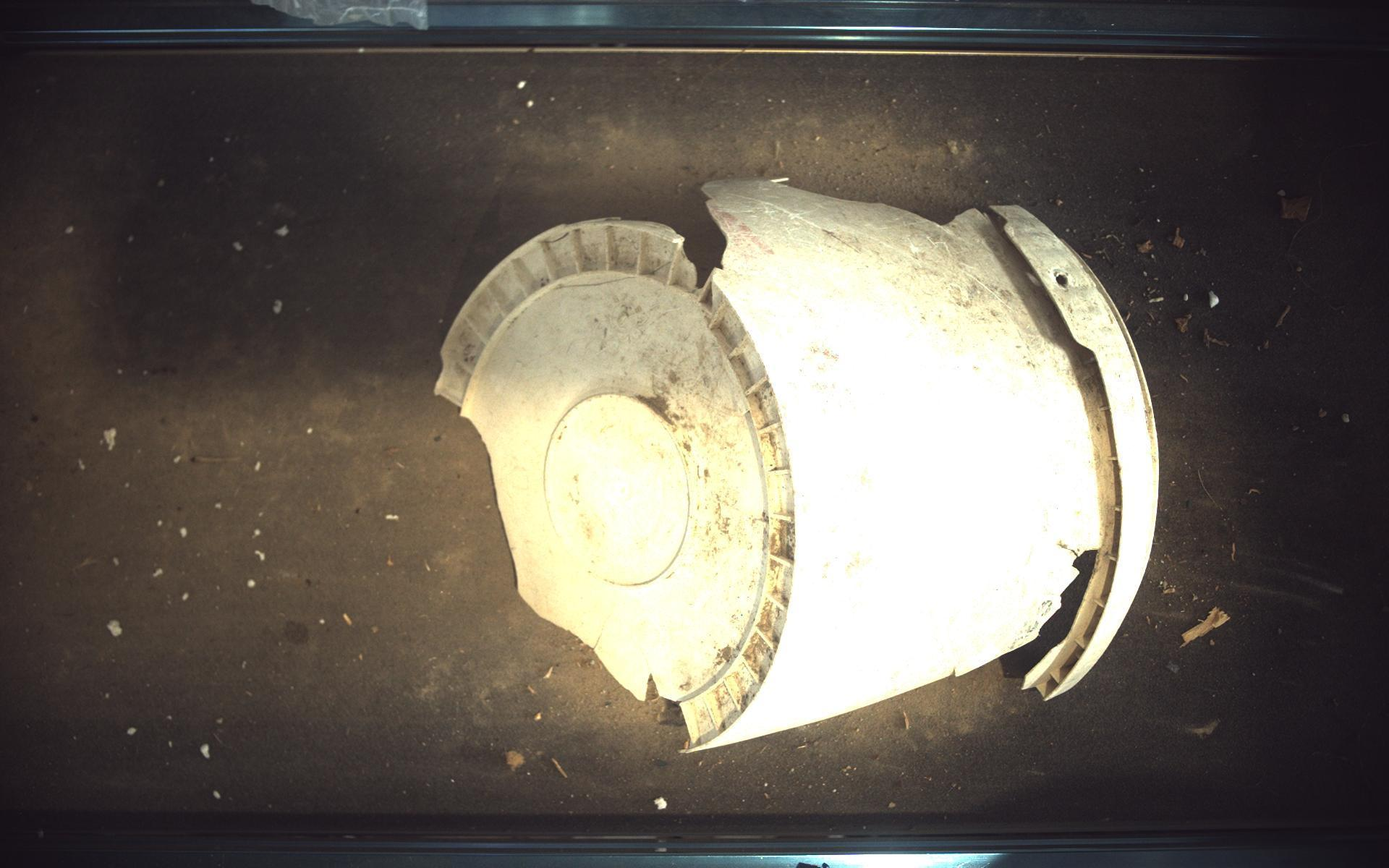plastic: (436, 179, 1160, 752)
